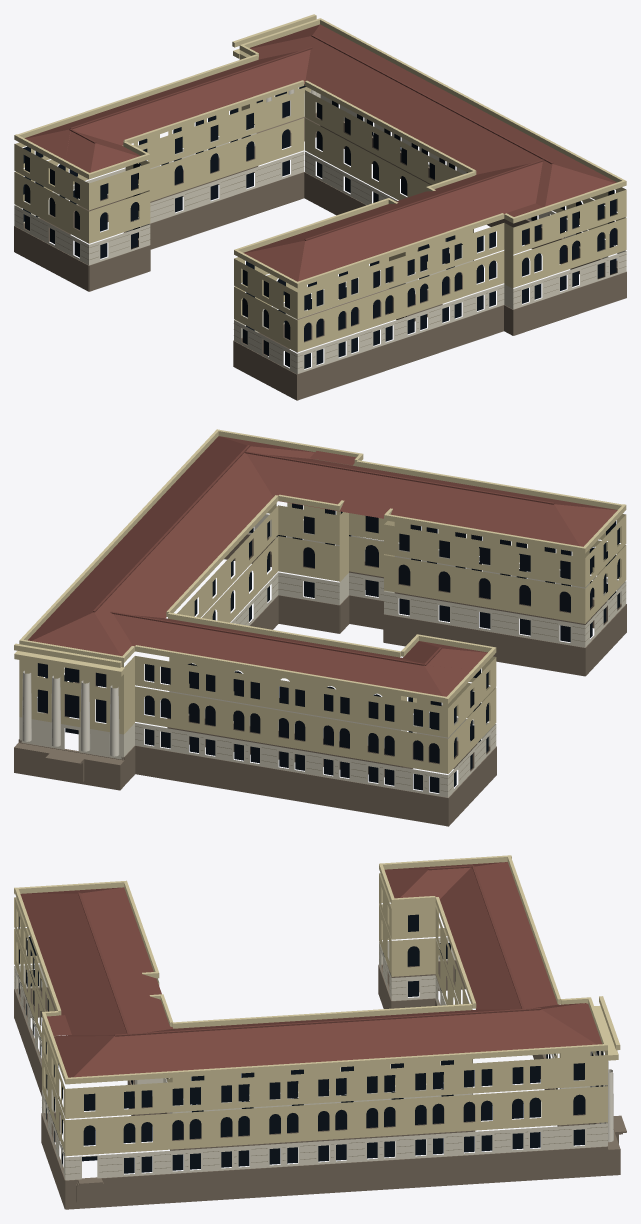
Rendered from gimnazia1.lod.glb.
3 renders of one model, top to bottom at view 1: azimuth 30°, elevation 25°; view 2: azimuth 150°, elevation 25°; view 3: azimuth 270°, elevation 25°, orthographic. The views are drawn at different scales.
Parts seen in each view (by area): view 1: gimnazia1_wall, gimnazia1_roof, gimnazia1_stone, gimnazia1_wall2, gimnazia1_glass, gimnazia1_wall3; view 2: gimnazia1_wall, gimnazia1_roof, gimnazia1_stone, gimnazia1_wall2, gimnazia1_glass, gimnazia1_trim_s, gimnazia1_wall3; view 3: gimnazia1_wall, gimnazia1_roof, gimnazia1_stone, gimnazia1_glass, gimnazia1_wall2, gimnazia1_wall3, gimnazia1_trim_s.
Part boxes in pixels (x1,y1,x2,y2): gimnazia1_wall: [14, 14, 626, 352]; gimnazia1_roof: [24, 24, 616, 281]; gimnazia1_stone: [14, 112, 626, 400]; gimnazia1_wall2: [14, 91, 626, 374]; gimnazia1_glass: [23, 84, 616, 368]; gimnazia1_wall3: [14, 154, 626, 368]; gimnazia1_wall: [14, 429, 626, 773]; gimnazia1_roof: [28, 436, 617, 696]; gimnazia1_stone: [14, 533, 626, 826]; gimnazia1_wall2: [19, 514, 626, 797]; gimnazia1_glass: [37, 503, 619, 793]; gimnazia1_trim_s: [22, 670, 119, 756]; gimnazia1_wall3: [135, 575, 625, 791]; gimnazia1_wall: [14, 855, 620, 1156]; gimnazia1_roof: [20, 862, 602, 1077]; gimnazia1_stone: [14, 960, 626, 1209]; gimnazia1_glass: [18, 914, 603, 1173]; gimnazia1_wall2: [14, 937, 607, 1180]; gimnazia1_wall3: [15, 950, 607, 1174]; gimnazia1_trim_s: [590, 1050, 613, 1142].
Bounding box in the file's own units: 65.6 × 19.65 × 74.68.
